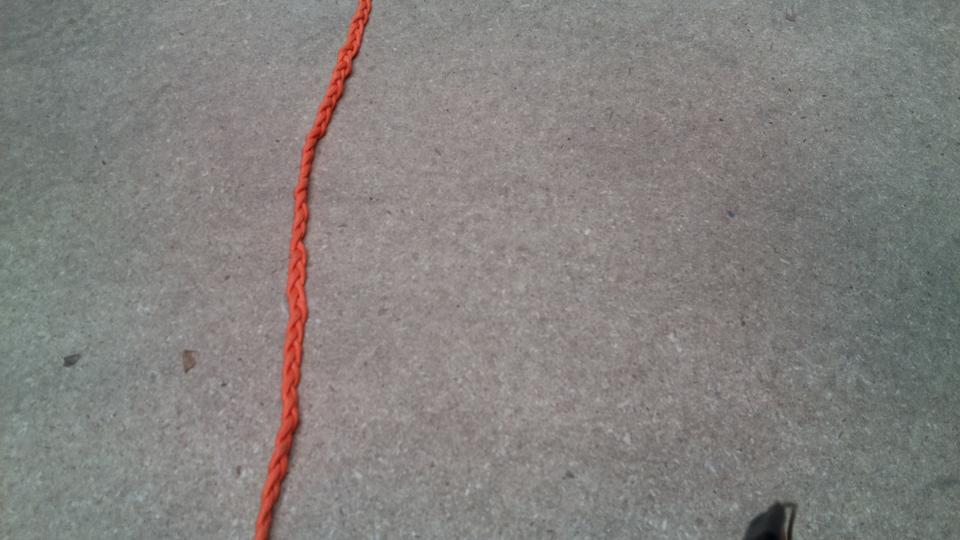rope: (246, 1, 377, 540)
